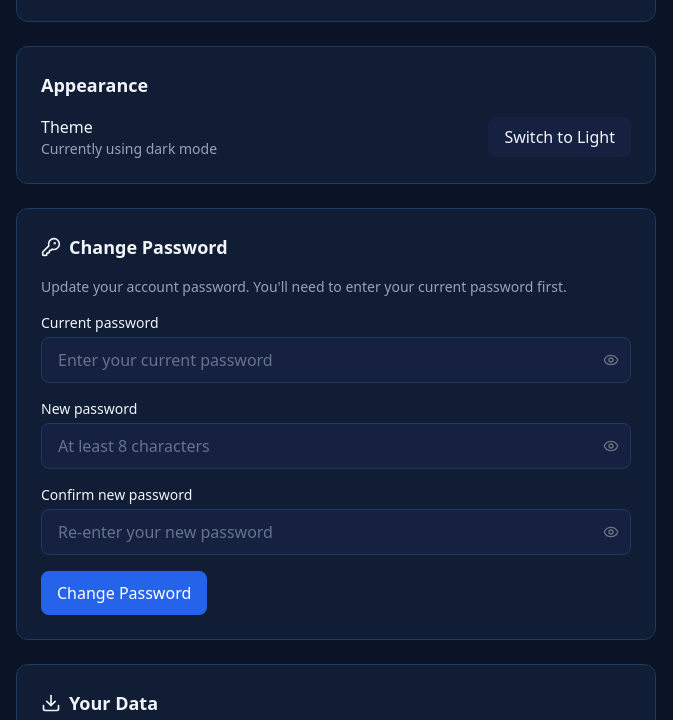
Test case: SettingsPage - change password submission › maps server-returned data.fields to per-field error messages on 4xx
This screenshot has width=673, height=720.
(page scrolled)
In the password field labelled "Current password": {"x": 336, "y": 360} [41,337,631,383], type "WrongPass!"
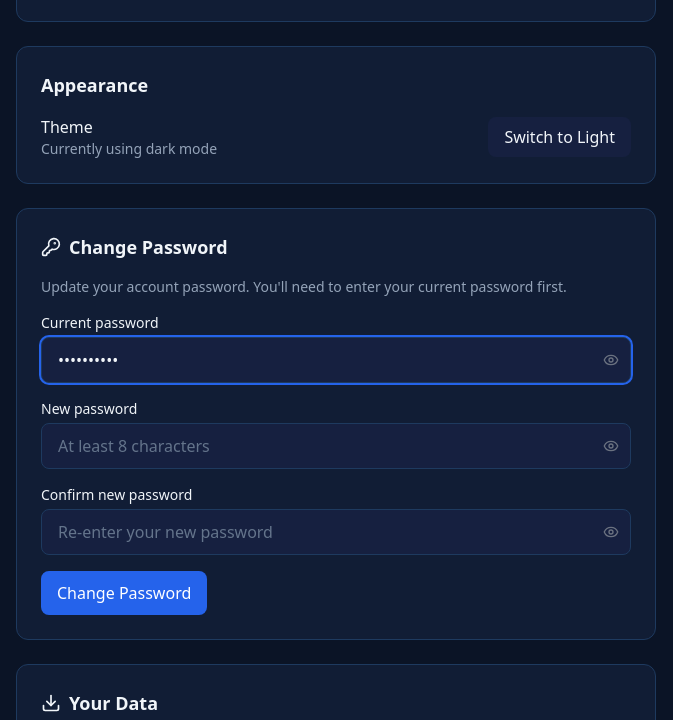
In the password field labelled "New password": {"x": 336, "y": 446} [41,423,631,469], type "TestPass2026!"
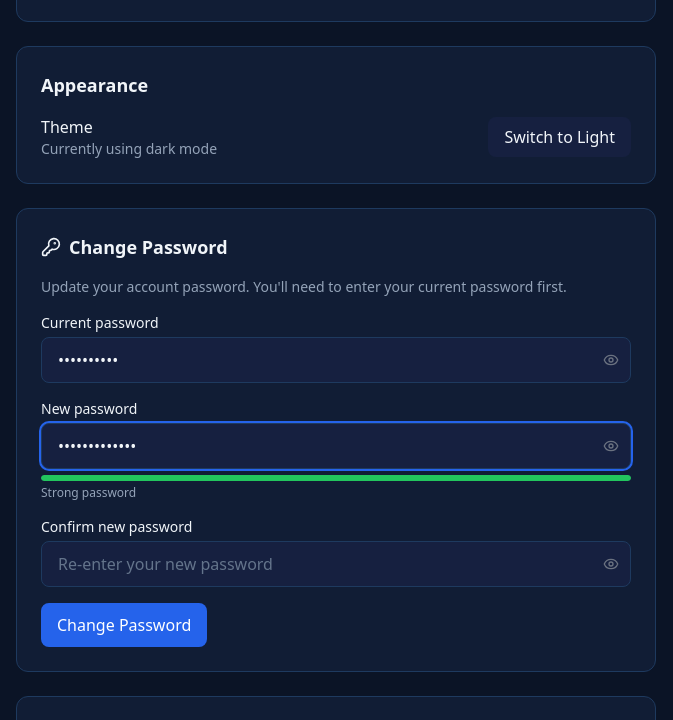
In the password field labelled "Confirm new password": {"x": 336, "y": 564} [41,541,631,587], type "TestPass2026!"
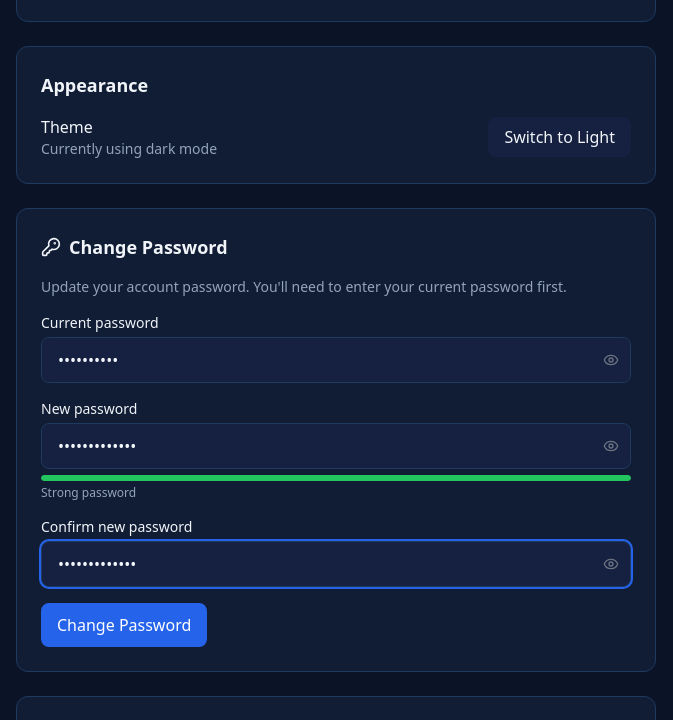
Click the button "Change Password": {"x": 124, "y": 625} [41,603,207,647]
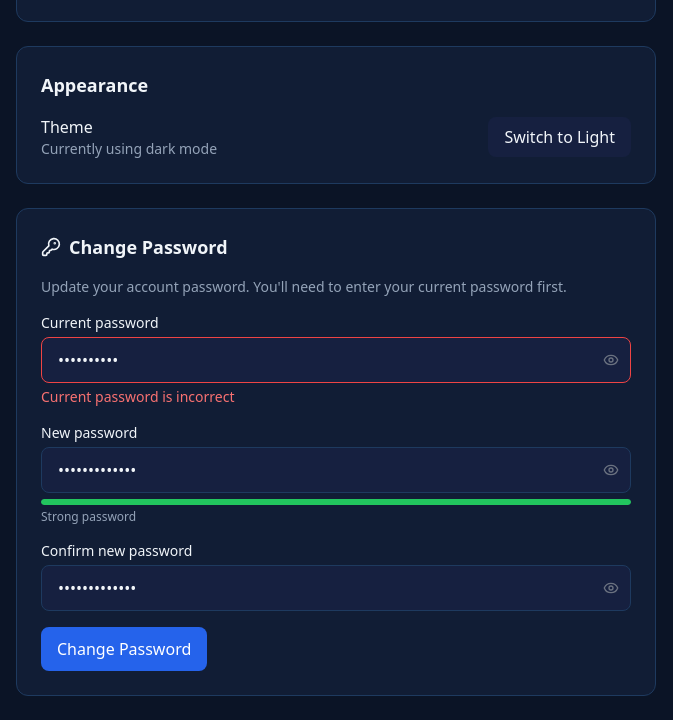
Expected: the text "Current password is incorrect" is shown once, [41,387,234,406]
